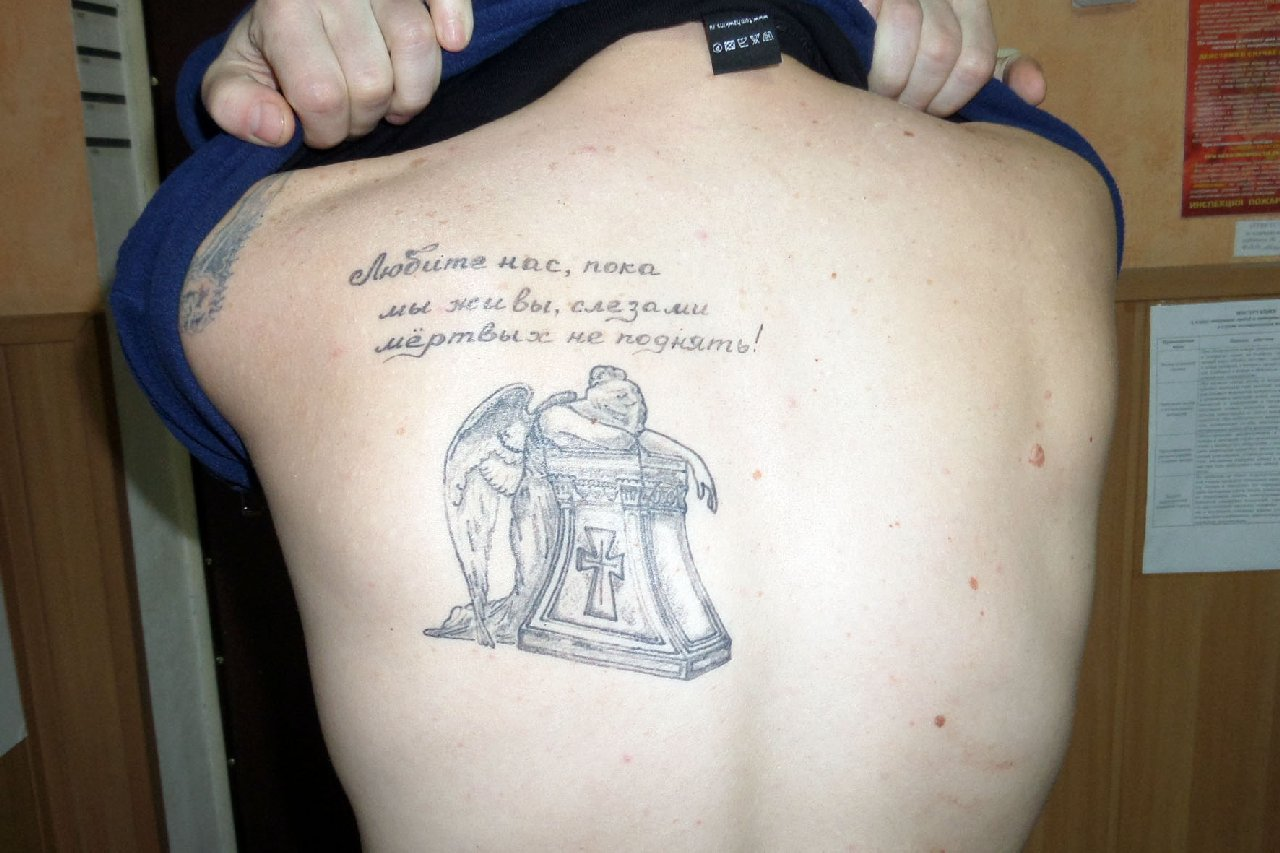tatu1_angel: (437, 362, 711, 673)
tatu3_bukva: (343, 230, 775, 366)
tatu9_krest: (565, 521, 620, 621)
